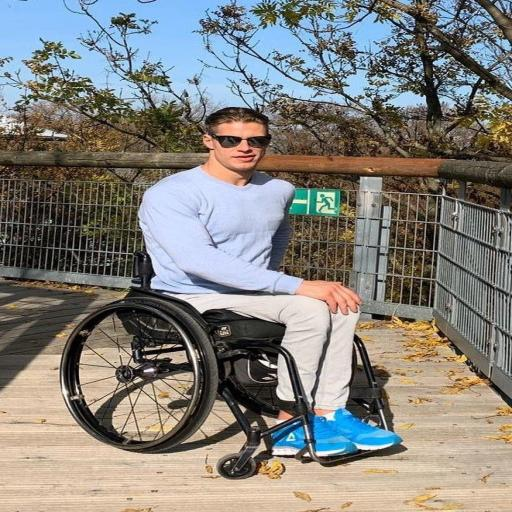laptop: (135, 104, 404, 464)
wheelchair: (56, 248, 412, 481)
